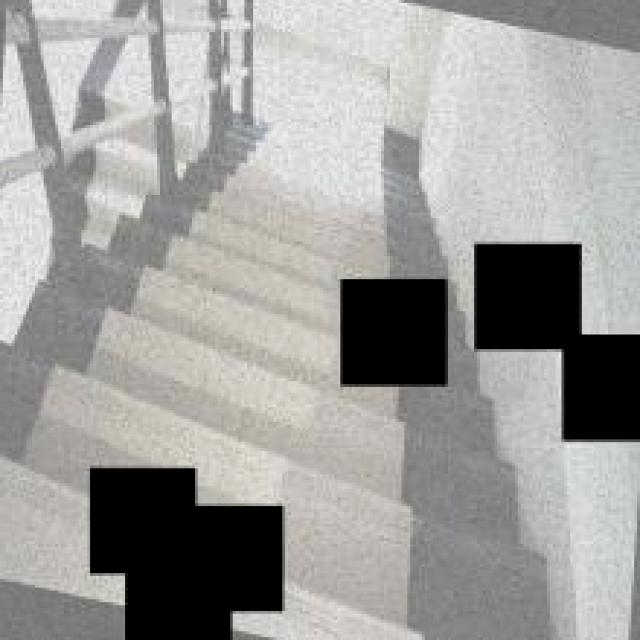downstair: (185, 182, 339, 464)
